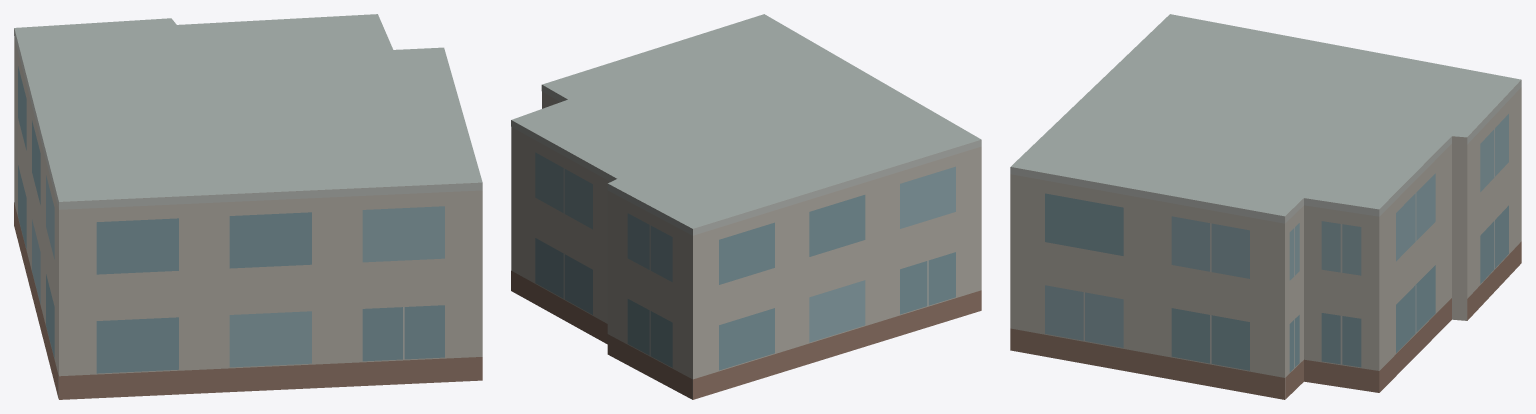
File: survey-upis-32534128.glb
The picture shows the model from 3 angles, left to right: view 1: azimuth 30°, elevation 25°; view 2: azimuth 150°, elevation 25°; view 3: azimuth 270°, elevation 25°; orthographic projection. The views are drawn at different scales.
Parts seen in each view (by area): view 1: survey-upis-32534128.tmp; view 2: survey-upis-32534128.tmp; view 3: survey-upis-32534128.tmp.
Boxes of the visible parts, x1,y1,x2,y2 form: survey-upis-32534128.tmp: [14, 14, 482, 399]; survey-upis-32534128.tmp: [511, 14, 981, 399]; survey-upis-32534128.tmp: [1010, 14, 1521, 399].
Size of the model in its own units: 14.43 by 6.1 by 15.41.
